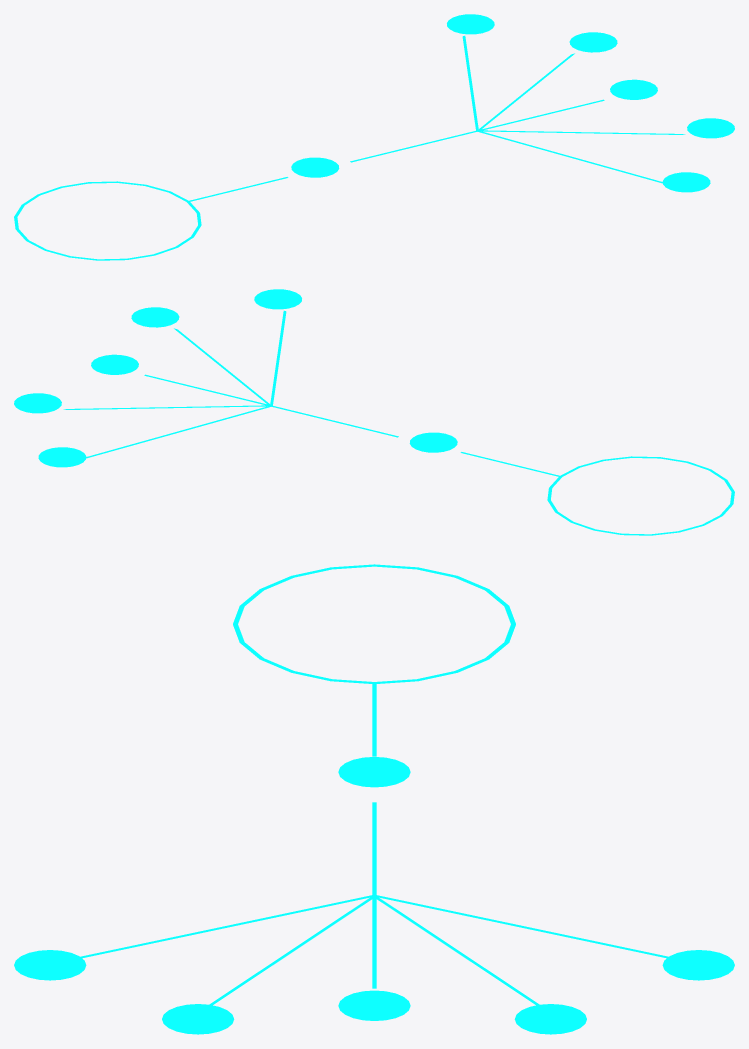
File: Bridge_Accent_Glow.fbx
3 renders of one model, top to bottom at view 1: azimuth 30°, elevation 25°; view 2: azimuth 150°, elevation 25°; view 3: azimuth 270°, elevation 25°, orthographic. The views are drawn at different scales.
Visible parts, largest first — view 1: Bridge_Accent_Glow; view 2: Bridge_Accent_Glow; view 3: Bridge_Accent_Glow.
Part boxes in pixels (x1,y1,x2,y2): Bridge_Accent_Glow: (14, 14, 734, 260); Bridge_Accent_Glow: (14, 289, 734, 535); Bridge_Accent_Glow: (14, 564, 734, 1034).
Bounding box in the file's own units: 3100 × 13.84 × 1991.
